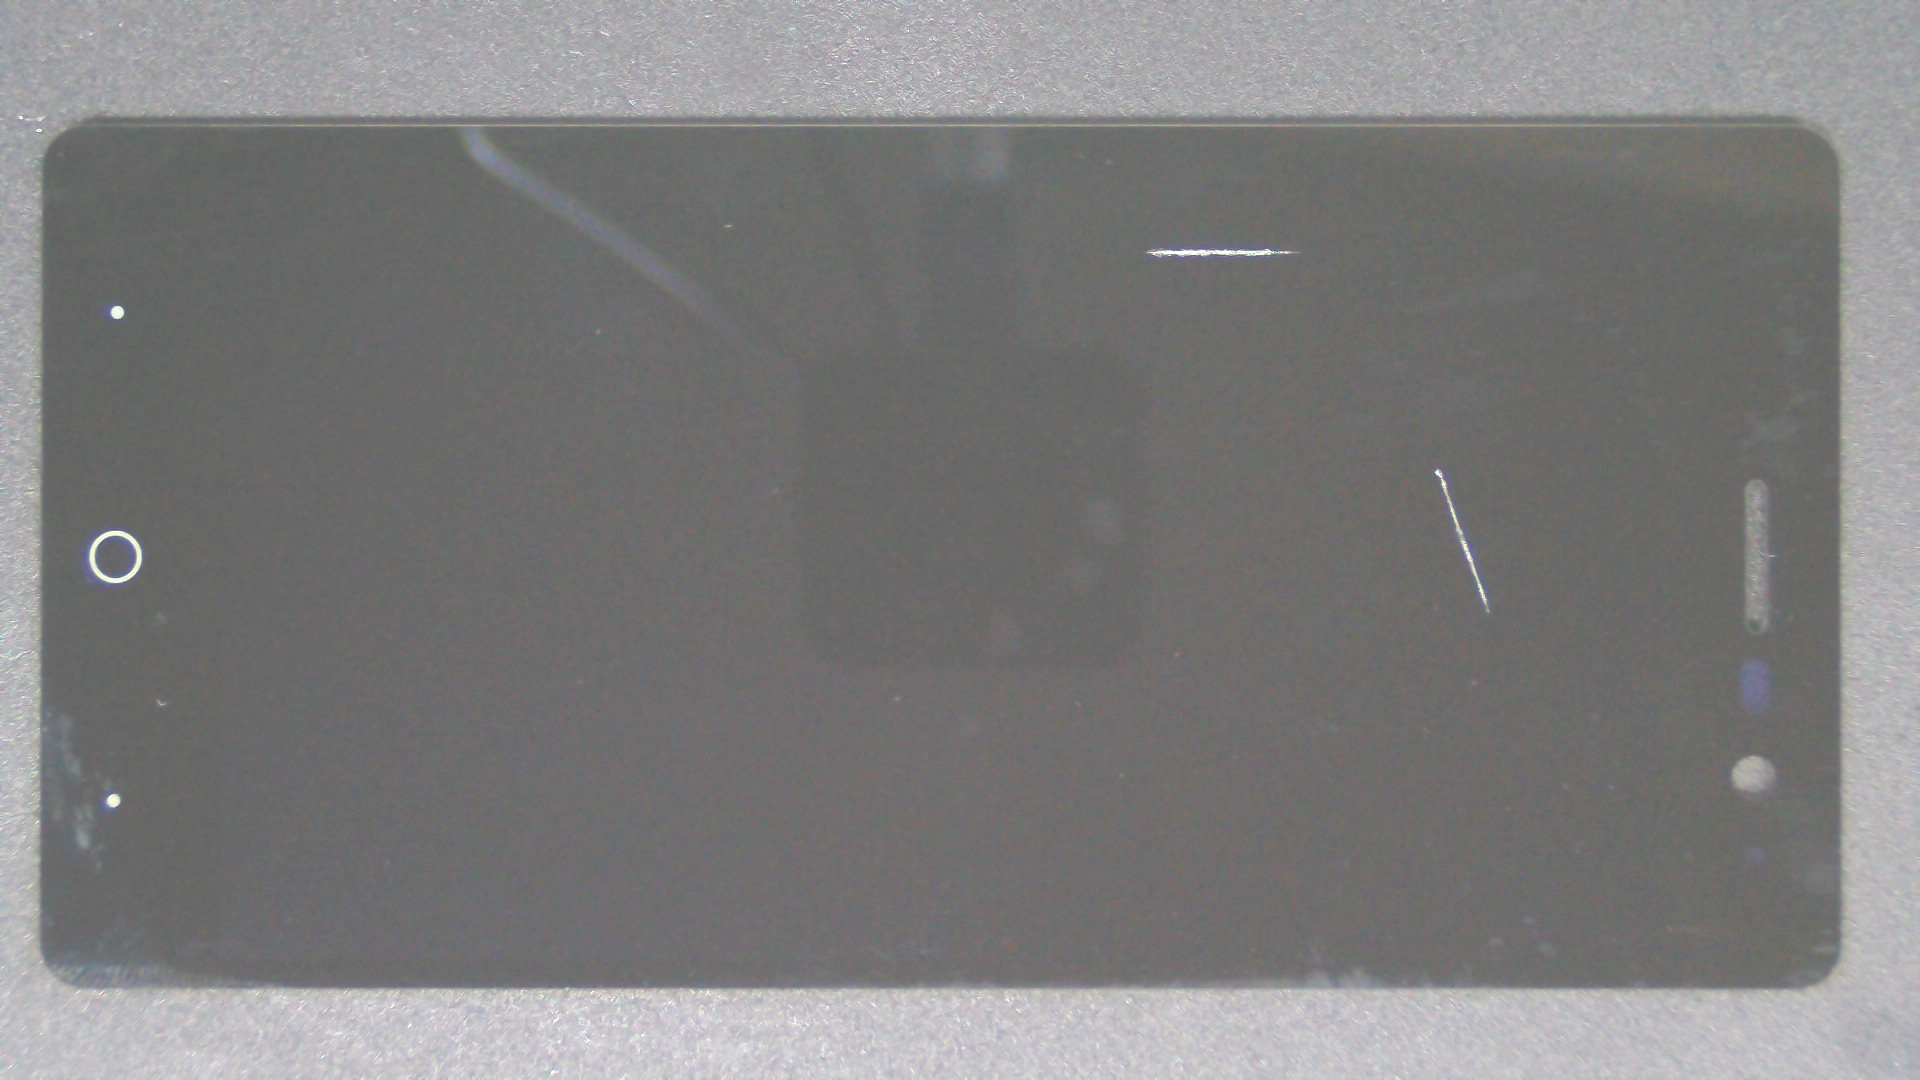oil: (720, 233, 1920, 702), (582, 123, 1741, 371)
